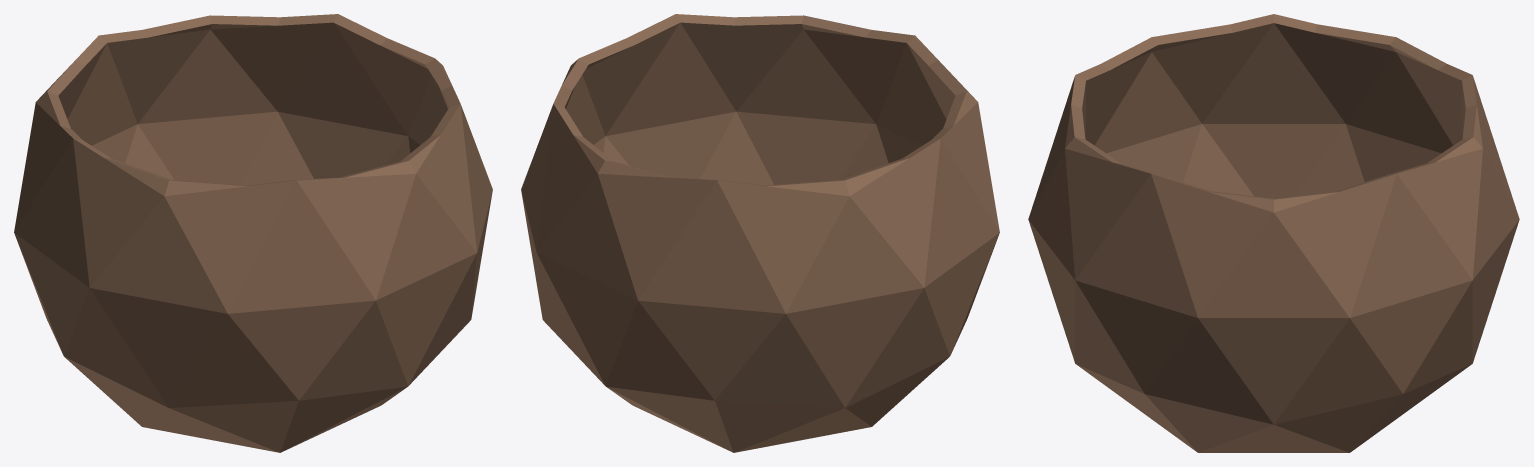
File: basket.fbx
The picture shows the model from 3 angles, left to right: view 1: azimuth 30°, elevation 25°; view 2: azimuth 150°, elevation 25°; view 3: azimuth 270°, elevation 25°; orthographic projection.
Visible parts, largest first — view 1: Icosphere; view 2: Icosphere; view 3: Icosphere.
Part boxes in pixels (left/top/right/bottom): Icosphere: left=14, top=14, right=492, bottom=452; Icosphere: left=521, top=14, right=999, bottom=452; Icosphere: left=1028, top=14, right=1519, bottom=452.
Size of the model in its own units: 92.52 by 66.95 by 97.28.
